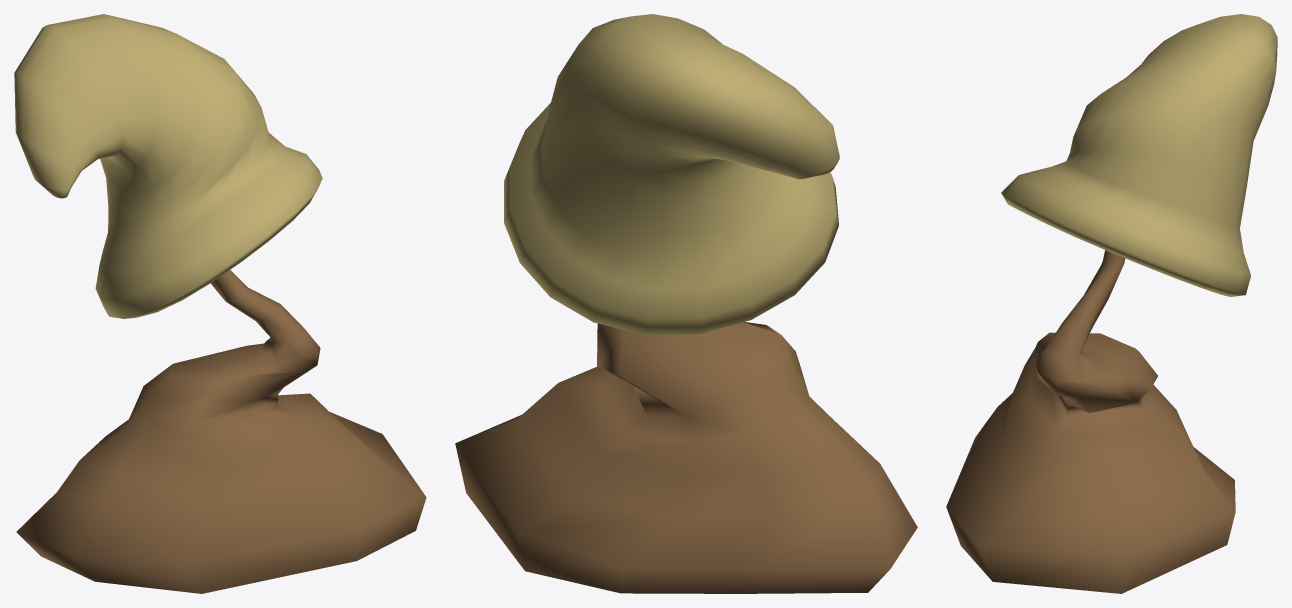
Rendered from sm_mushroom_04.fbx.
3 views of the same model, side by side, from view 1: azimuth 30°, elevation 25°; view 2: azimuth 150°, elevation 25°; view 3: azimuth 270°, elevation 25° (orthographic). The views are drawn at different scales.
Visible parts, largest first — view 1: sm_mushroom_04; view 2: sm_mushroom_04; view 3: sm_mushroom_04.
Boxes of the visible parts, bbox=[...] form: sm_mushroom_04: bbox=[14, 14, 426, 593]; sm_mushroom_04: bbox=[455, 14, 917, 593]; sm_mushroom_04: bbox=[946, 14, 1277, 593].
Bounding box in the file's own units: 3.24 × 3.99 × 2.62.
